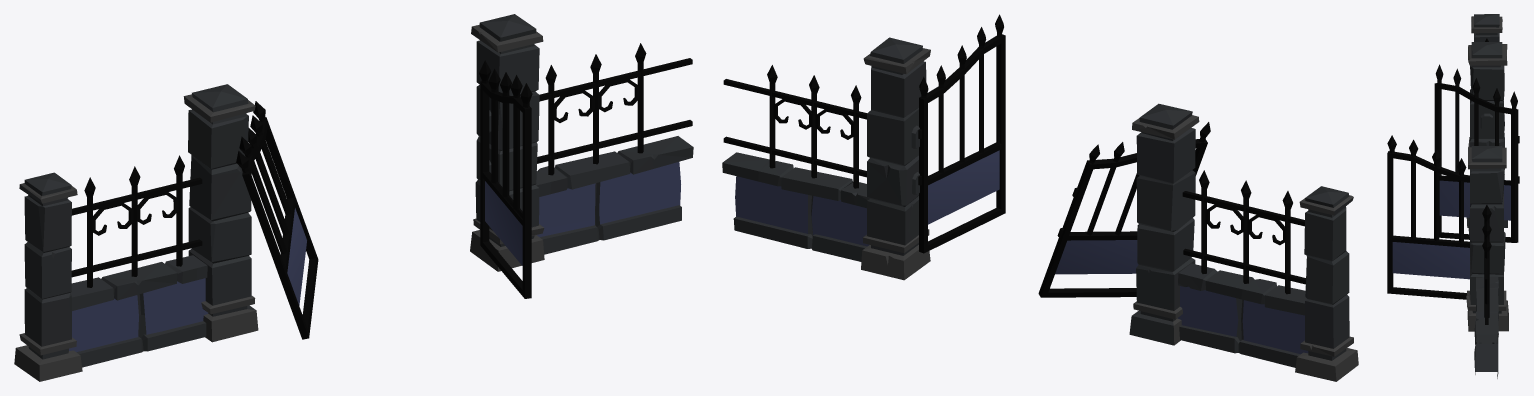
The model's file is GateGraveyard_Broke.fbx.
3 renders of one model, left to right at view 1: azimuth 30°, elevation 25°; view 2: azimuth 150°, elevation 25°; view 3: azimuth 270°, elevation 25°, orthographic. The views are drawn at different scales.
Visible parts, largest first — view 1: gate-graveyard-body, gate-graveyard-door-l, gate-graveyard-door-r; view 2: gate-graveyard-body, gate-graveyard-door-l, gate-graveyard-door-r; view 3: gate-graveyard-body, gate-graveyard-door-l, gate-graveyard-door-r.
Part boxes in pixels (box(x1,y1,x2,y2)): gate-graveyard-body: box(14, 14, 693, 381); gate-graveyard-door-l: box(479, 60, 532, 298); gate-graveyard-door-r: box(236, 101, 318, 339); gate-graveyard-body: box(722, 37, 1358, 381); gate-graveyard-door-l: box(918, 14, 1005, 253); gate-graveyard-door-r: box(1038, 122, 1210, 297); gate-graveyard-body: box(1466, 14, 1508, 378); gate-graveyard-door-l: box(1387, 135, 1469, 299); gate-graveyard-door-r: box(1434, 64, 1519, 242).
Bounding box in the file's own units: 526 × 178 × 123.
